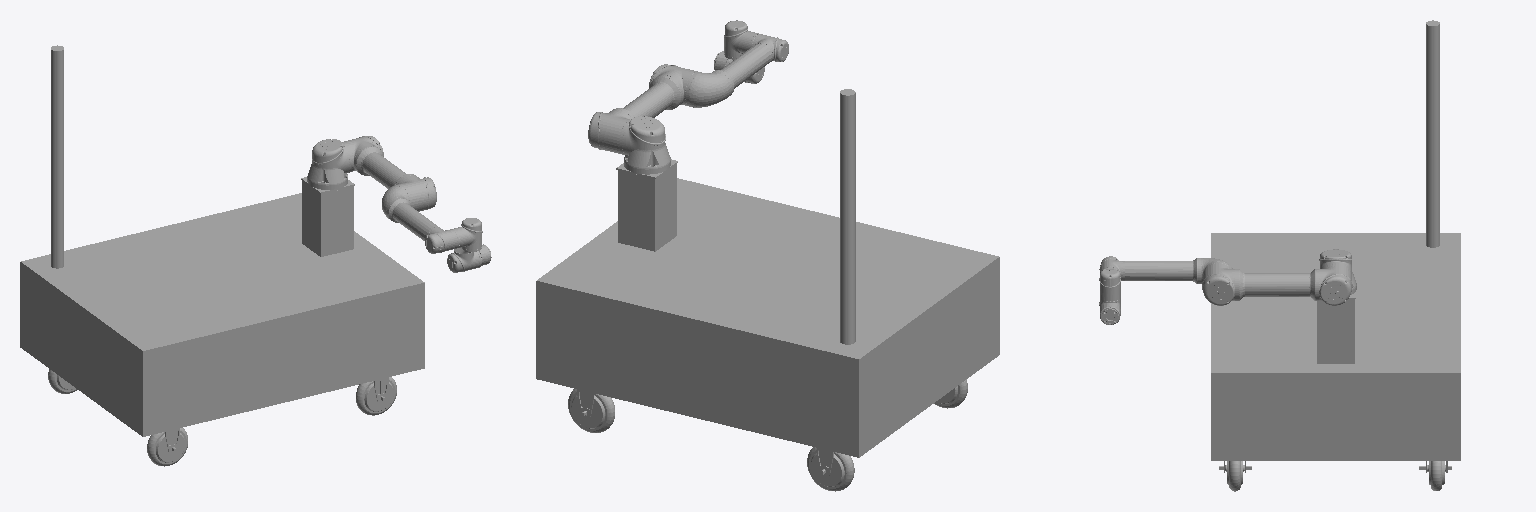
robot.urdf — ur5:
<?xml version="1.0" encoding="utf-8"?>
<!-- =================================================================================== -->
<!-- |    This document was autogenerated by xacro from ur5_robot.urdf.xacro           | -->
<!-- |    EDITING THIS FILE BY HAND IS NOT RECOMMENDED                                 | -->
<!-- =================================================================================== -->
<robot name="ur5" xmlns:xacro="http://wiki.ros.org/xacro">
  <gazebo>
    <plugin filename="libgazebo_ros_control.so" name="ros_control">
      <!--robotNamespace>/</robotNamespace-->
      <!--robotSimType>gazebo_ros_control/DefaultRobotHWSim</robotSimType-->
    </plugin>
    <!--
    <plugin name="gazebo_ros_power_monitor_controller" filename="libgazebo_ros_power_monitor.so">
      <alwaysOn>true</alwaysOn>
      <updateRate>1.0</updateRate>
      <timeout>5</timeout>
      <powerStateTopic>power_state</powerStateTopic>
      <powerStateRate>10.0</powerStateRate>
      <fullChargeCapacity>87.78</fullChargeCapacity>     
      <dischargeRate>-474</dischargeRate>
      <chargeRate>525</chargeRate>
      <dischargeVoltage>15.52</dischargeVoltage>
      <chargeVoltage>16.41</chargeVoltage>
    </plugin>
-->
  </gazebo>
  <!-- measured from model -->
  <!--property name="shoulder_height" value="0.089159" /-->
  <!--property name="shoulder_offset" value="0.13585" /-->
  <!-- shoulder_offset - elbow_offset + wrist_1_length = 0.10915 -->
  <!--property name="upper_arm_length" value="0.42500" /-->
  <!--property name="elbow_offset" value="0.1197" /-->
  <!-- CAD measured -->
  <!--property name="forearm_length" value="0.39225" /-->
  <!--property name="wrist_1_length" value="0.093" /-->
  <!-- CAD measured -->
  <!--property name="wrist_2_length" value="0.09465" /-->
  <!-- In CAD this distance is 0.930, but in the spec it is 0.09465 -->
  <!--property name="wrist_3_length" value="0.0823" /-->
  <!-- manually measured -->
<link name="world" />

  <joint name="world_joint" type="fixed">
    <parent link="world" />
    <child link = "car_link" />
    <origin xyz="0.0 0.0 0.0" rpy="0.0 0.0 0.0" />
  </joint>

  <link name="car_link">
    <visual>
      <geometry>
        <mesh filename="package://bit_bit_robotcar/meshes/car_link.dae"/>
      </geometry>
      <material name="LightGrey">
        <color rgba="0.7 0.7 0.7 1.0"/>
      </material>
    </visual>
    <collision>
      <geometry>
        <mesh filename="package://bit_robotcar/meshes/car_link.dae"/>
      </geometry>
    </collision>
    <inertial>
      <mass value="379.0"/>
      <origin rpy="0 0 0" xyz="0.0 0.0 0.0"/>
      <inertia ixx="29.73" ixy="0.0" ixz="0.0" iyy="49.44" iyz="0.0" izz="71.42"/>
    </inertial>
  </link>
  <joint name="car_base_joint" type="fixed">
    <parent link="car_link"/>
    <child link="base_link"/>
    <origin rpy="0.0 0.0 0" xyz="0.448 0 0.615"/>
    <axis xyz="0 0 1"/>
    <limit effort="150.0" lower="-6.28318530718" upper="6.28318530718" velocity="3.15"/>
    <dynamics damping="0.0" friction="0.0"/>
  </joint>

  <link name="base_link">
    <visual>
      <geometry>
        <mesh filename="package://bit_robotcar/meshes/ur5/visual/base.dae"/>
      </geometry>
      <material name="LightGrey">
        <color rgba="0.7 0.7 0.7 1.0"/>
      </material>
    </visual>
    <collision>
      <geometry>
        <mesh filename="package://bit_robotcar/meshes/ur5/collision/base.stl"/>
      </geometry>
    </collision>
    <inertial>
      <mass value="4.0"/>
      <origin rpy="0 0 0" xyz="0.0 0.0 0.0"/>
      <inertia ixx="0.00443333156" ixy="0.0" ixz="0.0" iyy="0.00443333156" iyz="0.0" izz="0.0072"/>
    </inertial>
  </link>

  <joint name="shoulder_pan_joint" type="revolute">
    <parent link="base_link"/>
    <child link="shoulder_link"/>
    <origin rpy="0.0 0.0 -1.57079632679" xyz="0.0 0.0 0.08"/>
    <axis xyz="0 0 1"/>
    <limit effort="150.0" lower="-6.28318530718" upper="6.28318530718" velocity="3.15"/>
    <dynamics damping="0.0" friction="0.0"/>
  </joint>
  <link name="shoulder_link">
    <visual>
      <geometry>
        <mesh filename="package://bit_robotcar/meshes/ur5/visual/shoulder.dae"/>
      </geometry>
      <material name="LightGrey">
        <color rgba="0.7 0.7 0.7 1.0"/>
      </material>
    </visual>
    <collision>
      <geometry>
        <mesh filename="package://bit_robotcar/meshes/ur5/collision/shoulder.stl"/>
      </geometry>
    </collision>
    <inertial>
      <mass value="3.7"/>
      <origin rpy="0 0 0" xyz="0.0 0.0 0.0"/>
      <inertia ixx="0.010267495893" ixy="0.0" ixz="0.0" iyy="0.010267495893" iyz="0.0" izz="0.00666"/>
    </inertial>
  </link>
  <joint name="shoulder_lift_joint" type="revolute">
    <parent link="shoulder_link"/>
    <child link="upper_arm_link"/>
    <origin rpy="0.0 1.57079632679 0.0" xyz="0.0 0.13585 0.0"/>
    <axis xyz="0 1 0"/>
    <limit effort="150.0" lower="-6.28318530718" upper="6.28318530718" velocity="3.15"/>
    <dynamics damping="0.0" friction="0.0"/>
  </joint>
  <link name="upper_arm_link">
    <visual>
      <geometry>
        <mesh filename="package://bit_robotcar/meshes/ur5/visual/upperarm.dae"/>
      </geometry>
      <material name="LightGrey">
        <color rgba="0.7 0.7 0.7 1.0"/>
      </material>
    </visual>
    <collision>
      <geometry>
        <mesh filename="package://bit_robotcar/meshes/ur5/collision/upperarm.stl"/>
      </geometry>
    </collision>
    <inertial>
      <mass value="8.393"/>
      <origin rpy="0 0 0" xyz="0.0 0.0 0.28"/>
      <inertia ixx="0.22689067591" ixy="0.0" ixz="0.0" iyy="0.22689067591" iyz="0.0" izz="0.0151074"/>
    </inertial>
  </link>
  <joint name="elbow_joint" type="revolute">
    <parent link="upper_arm_link"/>
    <child link="forearm_link"/>
    <origin rpy="0.0 0.0 0.0" xyz="0.0 -0.1197 0.425"/>
    <axis xyz="0 1 0"/>
    <limit effort="150.0" lower="-3.14159265359" upper="3.14159265359" velocity="3.15"/>
    <dynamics damping="0.0" friction="0.0"/>
  </joint>
  <link name="forearm_link">
    <visual>
      <geometry>
        <mesh filename="package://bit_robotcar/meshes/ur5/visual/forearm.dae"/>
      </geometry>
      <material name="LightGrey">
        <color rgba="0.7 0.7 0.7 1.0"/>
      </material>
    </visual>
    <collision>
      <geometry>
        <mesh filename="package://bit_robotcar/meshes/ur5/collision/forearm.stl"/>
      </geometry>
    </collision>
    <inertial>
      <mass value="2.275"/>
      <origin rpy="0 0 0" xyz="0.0 0.0 0.25"/>
      <inertia ixx="0.049443313556" ixy="0.0" ixz="0.0" iyy="0.049443313556" iyz="0.0" izz="0.004095"/>
    </inertial>
  </link>
  <joint name="wrist_1_joint" type="revolute">
    <parent link="forearm_link"/>
    <child link="wrist_1_link"/>
    <origin rpy="0.0 1.57079632679 0.0" xyz="0.0 0.0 0.39225"/>
    <axis xyz="0 1 0"/>
    <limit effort="28.0" lower="-6.28318530718" upper="6.28318530718" velocity="3.2"/>
    <dynamics damping="0.0" friction="0.0"/>
  </joint>
  <link name="wrist_1_link">
    <visual>
      <geometry>
        <mesh filename="package://bit_robotcar/meshes/ur5/visual/wrist1.dae"/>
      </geometry>
      <material name="LightGrey">
        <color rgba="0.7 0.7 0.7 1.0"/>
      </material>
    </visual>
    <collision>
      <geometry>
        <mesh filename="package://bit_robotcar/meshes/ur5/collision/wrist1.stl"/>
      </geometry>
    </collision>
    <inertial>
      <mass value="1.219"/>
      <origin rpy="0 0 0" xyz="0.0 0.0 0.0"/>
      <inertia ixx="0.111172755531" ixy="0.0" ixz="0.0" iyy="0.111172755531" iyz="0.0" izz="0.21942"/>
    </inertial>
  </link>
  <joint name="wrist_2_joint" type="revolute">
    <parent link="wrist_1_link"/>
    <child link="wrist_2_link"/>
    <origin rpy="0.0 0.0 0.0" xyz="0.0 0.093 0.0"/>
    <axis xyz="0 0 1"/>
    <limit effort="28.0" lower="-6.28318530718" upper="6.28318530718" velocity="3.2"/>
    <dynamics damping="0.0" friction="0.0"/>
  </joint>
  <link name="wrist_2_link">
    <visual>
      <geometry>
        <mesh filename="package://bit_robotcar/meshes/ur5/visual/wrist2.dae"/>
      </geometry>
      <material name="LightGrey">
        <color rgba="0.7 0.7 0.7 1.0"/>
      </material>
    </visual>
    <collision>
      <geometry>
        <mesh filename="package://bit_robotcar/meshes/ur5/collision/wrist2.stl"/>
      </geometry>
    </collision>
    <inertial>
      <mass value="1.219"/>
      <origin rpy="0 0 0" xyz="0.0 0.0 0.0"/>
      <inertia ixx="0.111172755531" ixy="0.0" ixz="0.0" iyy="0.111172755531" iyz="0.0" izz="0.21942"/>
    </inertial>
  </link>
  <joint name="wrist_3_joint" type="revolute">
    <parent link="wrist_2_link"/>
    <child link="wrist_3_link"/>
    <origin rpy="0.0 0.0 0.0" xyz="0.0 0.0 0.09465"/>
    <axis xyz="0 1 0"/>
    <limit effort="28.0" lower="-6.28318530718" upper="6.28318530718" velocity="3.2"/>
    <dynamics damping="0.0" friction="0.0"/>
  </joint>
  <link name="wrist_3_link">
    <visual>
      <geometry>
        <mesh filename="package://bit_robotcar/meshes/ur5/visual/wrist3.dae"/>
      </geometry>
      <material name="LightGrey">
        <color rgba="0.7 0.7 0.7 1.0"/>
      </material>
    </visual>
    <collision>
      <geometry>
        <mesh filename="package://bit_robotcar/meshes/ur5/collision/wrist3.stl"/>
      </geometry>
    </collision>
    <inertial>
      <mass value="0.1879"/>
      <origin rpy="0 0 0" xyz="0.0 0.0 0.0"/>
      <inertia ixx="0.0171364731454" ixy="0.0" ixz="0.0" iyy="0.0171364731454" iyz="0.0" izz="0.033822"/>
    </inertial>
  </link>
  <!-- <joint name="ee_fixed_joint" type="fixed">
    <parent link="wrist_3_link"/>
    <child link="ee_link"/>
    <origin rpy="0.0 0.0 1.57079632679" xyz="0.0 0.0823 0.0"/>
  </joint>
  <link name="ee_link">
    <collision>
      <geometry>
        <box size="0.01 0.01 0.01"/>
      </geometry>
      <origin rpy="0 0 0" xyz="-0.01 0 0"/>
    </collision>
  </link> -->
  <transmission name="shoulder_pan_trans">
    <type>transmission_interface/SimpleTransmission</type>
    <joint name="shoulder_pan_joint">
      <hardwareInterface>hardware_interface/PositionJointInterface</hardwareInterface>
    </joint>
    <actuator name="shoulder_pan_motor">
      <mechanicalReduction>1</mechanicalReduction>
    </actuator>
  </transmission>
  <transmission name="shoulder_lift_trans">
    <type>transmission_interface/SimpleTransmission</type>
    <joint name="shoulder_lift_joint">
      <hardwareInterface>hardware_interface/PositionJointInterface</hardwareInterface>
    </joint>
    <actuator name="shoulder_lift_motor">
      <mechanicalReduction>1</mechanicalReduction>
    </actuator>
  </transmission>
  <transmission name="elbow_trans">
    <type>transmission_interface/SimpleTransmission</type>
    <joint name="elbow_joint">
      <hardwareInterface>hardware_interface/PositionJointInterface</hardwareInterface>
    </joint>
    <actuator name="elbow_motor">
      <mechanicalReduction>1</mechanicalReduction>
    </actuator>
  </transmission>
  <transmission name="wrist_1_trans">
    <type>transmission_interface/SimpleTransmission</type>
    <joint name="wrist_1_joint">
      <hardwareInterface>hardware_interface/PositionJointInterface</hardwareInterface>
    </joint>
    <actuator name="wrist_1_motor">
      <mechanicalReduction>1</mechanicalReduction>
    </actuator>
  </transmission>
  <transmission name="wrist_2_trans">
    <type>transmission_interface/SimpleTransmission</type>
    <joint name="wrist_2_joint">
      <hardwareInterface>hardware_interface/PositionJointInterface</hardwareInterface>
    </joint>
    <actuator name="wrist_2_motor">
      <mechanicalReduction>1</mechanicalReduction>
    </actuator>
  </transmission>
  <transmission name="wrist_3_trans">
    <type>transmission_interface/SimpleTransmission</type>
    <joint name="wrist_3_joint">
      <hardwareInterface>hardware_interface/PositionJointInterface</hardwareInterface>
    </joint>
    <actuator name="wrist_3_motor">
      <mechanicalReduction>1</mechanicalReduction>
    </actuator>
  </transmission>
  <gazebo reference="shoulder_link">
    <selfCollide>true</selfCollide>
  </gazebo>
  <gazebo reference="upper_arm_link">
    <selfCollide>true</selfCollide>
  </gazebo>
  <gazebo reference="forearm_link">
    <selfCollide>true</selfCollide>
  </gazebo>
  <gazebo reference="wrist_1_link">
    <selfCollide>true</selfCollide>
  </gazebo>
  <gazebo reference="wrist_3_link">
    <selfCollide>true</selfCollide>
  </gazebo>
  <gazebo reference="wrist_2_link">
    <selfCollide>true</selfCollide>
  </gazebo>
  <gazebo reference="ee_link">
    <selfCollide>true</selfCollide>
  </gazebo>
  <!-- ROS base_link to UR 'Base' Coordinates transform -->
  <!-- <link name="base"/> -->
  <!-- <joint name="base_link-base_fixed_joint" type="fixed">

    <origin rpy="0 0 -3.14159265359" xyz="0 0 0"/>
    <parent link="base_link"/>
    <child link="base"/>
  </joint> -->
  <!-- Frame coincident with all-zeros TCP on UR controller -->
  <!-- <link name="tool0"/>
  <joint name="wrist_3_link-tool0_fixed_joint" type="fixed">
    <origin rpy="-1.57079632679 0 0" xyz="0 0.0823 0"/>
    <parent link="wrist_3_link"/>
    <child link="tool0"/>
  </joint> -->
</robot>

--- Facts derived from the render (not from the file) ---
3 views of the same robot in one strip: view 1: azimuth 30°, elevation 25°; view 2: azimuth 150°, elevation 25°; view 3: azimuth 270°, elevation 25° (orthographic).
Model ur5 with 9 links and 8 joints (6 revolute, 2 fixed), rooted at world, posed all joints at 0.
Links seen in each view (by area): view 1: car_link, upper_arm_link, forearm_link, shoulder_link, base_link, wrist_1_link, wrist_2_link; view 2: car_link, upper_arm_link, forearm_link, shoulder_link, base_link, wrist_1_link; view 3: car_link, upper_arm_link, forearm_link, wrist_1_link.
Boxes of the visible links, <box> form: car_link: <box>20,45,424,466</box>; upper_arm_link: <box>343,136,436,211</box>; forearm_link: <box>382,185,459,253</box>; shoulder_link: <box>312,139,352,172</box>; base_link: <box>307,158,347,189</box>; wrist_1_link: <box>454,218,482,251</box>; wrist_2_link: <box>447,248,481,272</box>; car_link: <box>536,89,999,491</box>; upper_arm_link: <box>588,64,698,153</box>; forearm_link: <box>687,33,788,107</box>; shoulder_link: <box>619,116,665,155</box>; base_link: <box>624,141,670,174</box>; wrist_1_link: <box>724,20,756,59</box>; car_link: <box>1211,20,1460,491</box>; upper_arm_link: <box>1202,261,1352,305</box>; forearm_link: <box>1099,256,1232,283</box>; wrist_1_link: <box>1099,268,1120,302</box>.
Bounding box of the posed robot: 1.26 × 1.31 × 1.42 m (x, y, z).
Meshes: 8 distinct files referenced, 8 mesh visuals loaded (8 Collada DAE).